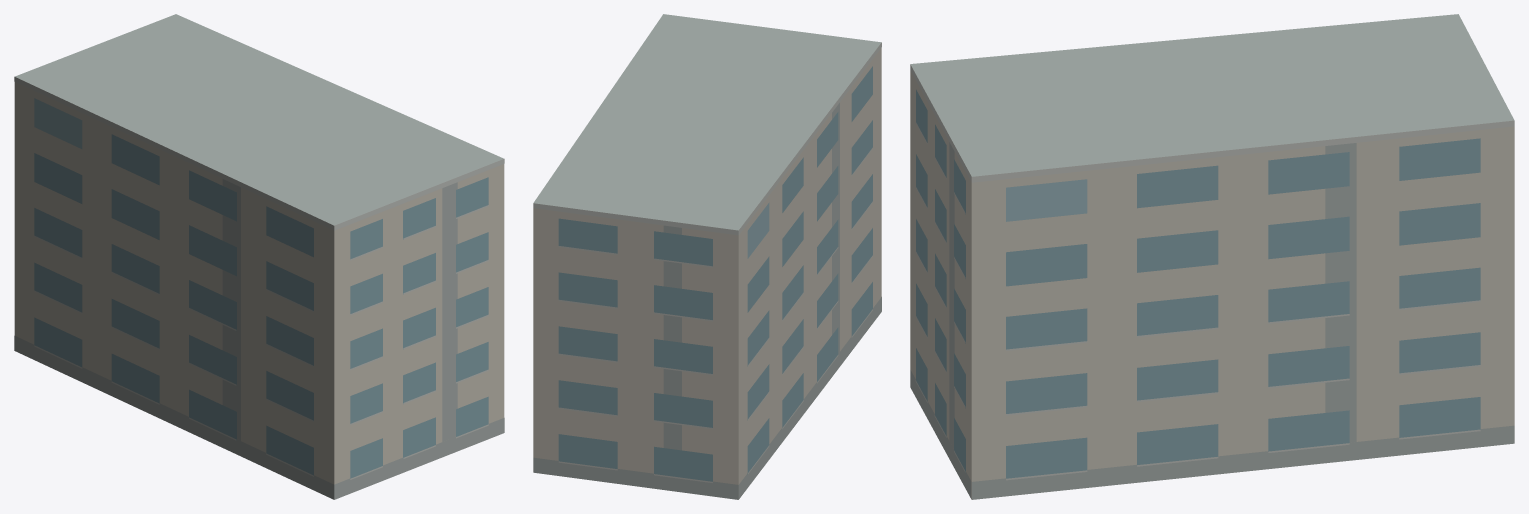
Rendered from survey-upis-32798363.glb.
3 views of the same model, side by side, from view 1: azimuth 30°, elevation 25°; view 2: azimuth 150°, elevation 25°; view 3: azimuth 270°, elevation 25° (orthographic). The views are drawn at different scales.
Visible parts, largest first — view 1: survey-upis-32798363.tmp; view 2: survey-upis-32798363.tmp; view 3: survey-upis-32798363.tmp.
Boxes of the visible parts, box(x1,y1,x2,y2) form: survey-upis-32798363.tmp: box(14, 14, 504, 499); survey-upis-32798363.tmp: box(533, 14, 881, 499); survey-upis-32798363.tmp: box(910, 14, 1514, 499).
Bounding box in the file's own units: 14.39 × 13.3 × 22.56.
